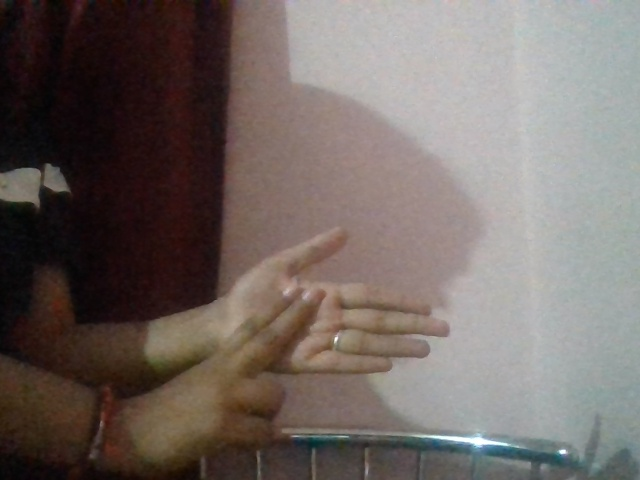N: (96, 211, 468, 480)
